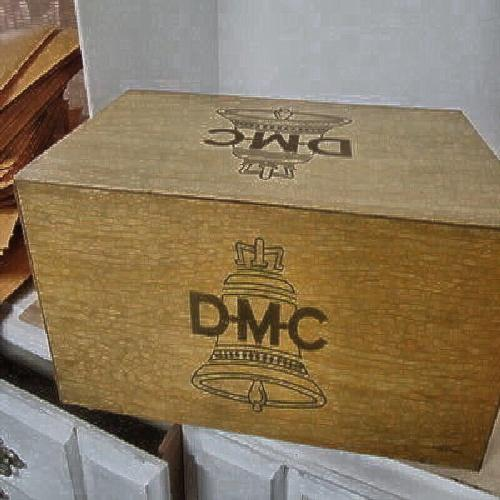cabinet: (33, 86, 500, 447)
